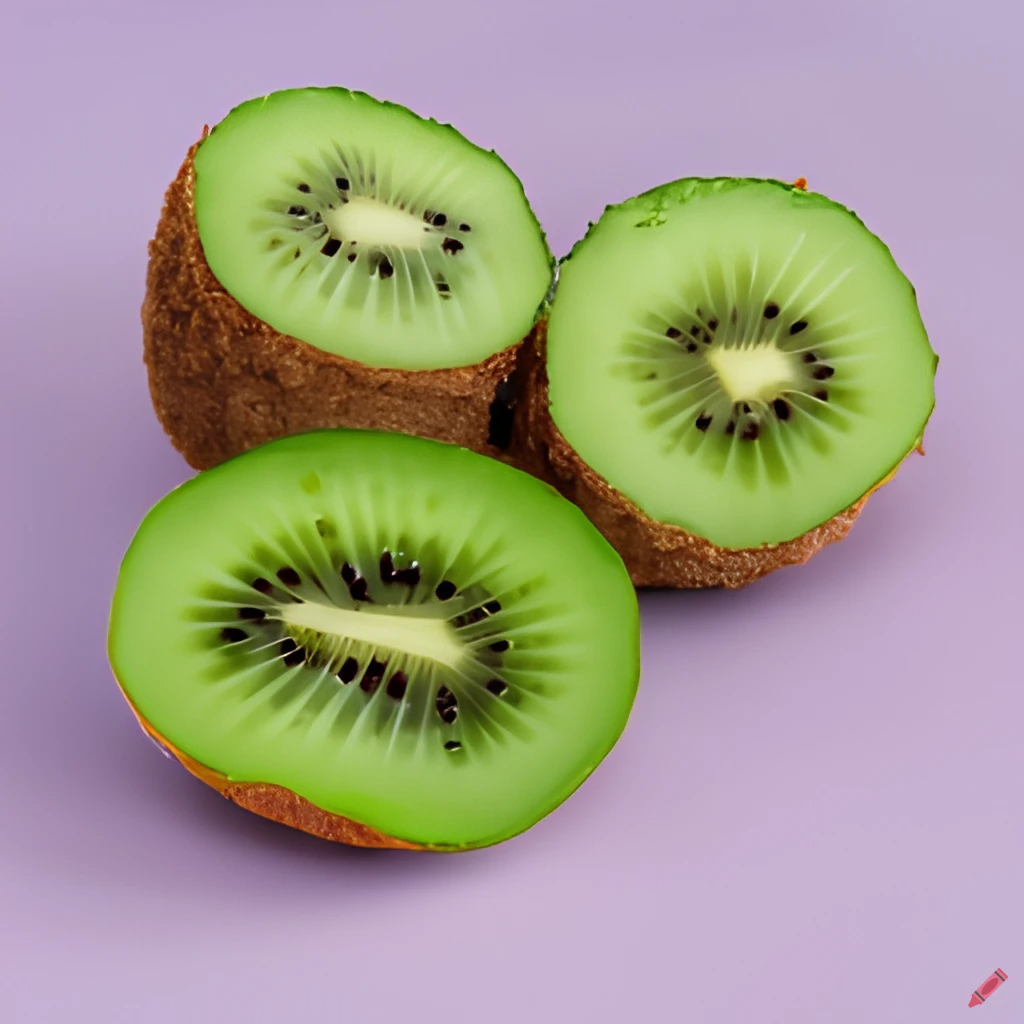Kiwi: (83, 402, 648, 864)
